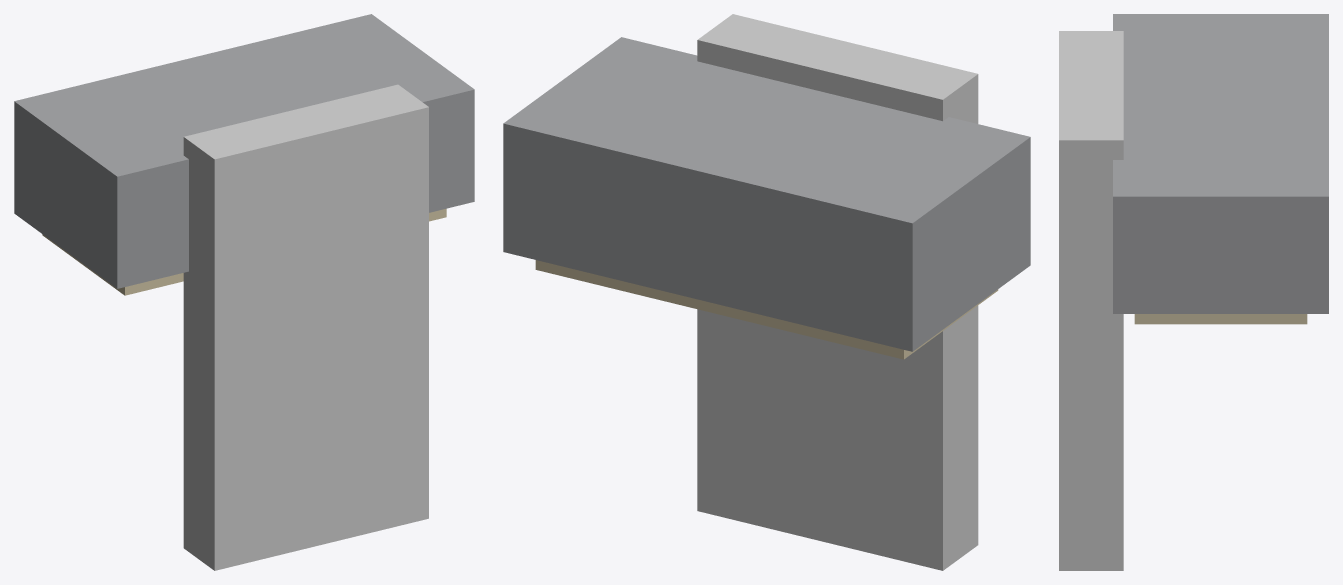
Rendered from ilu_lampada_parede_coz.glb.
3 renders of one model, left to right at view 1: azimuth 30°, elevation 25°; view 2: azimuth 150°, elevation 25°; view 3: azimuth 270°, elevation 25°, orthographic. The views are drawn at different scales.
Parts seen in each view (by area): view 1: ILU_Lampada_Parede_Coz_v01; view 2: ILU_Lampada_Parede_Coz_v01; view 3: ILU_Lampada_Parede_Coz_v01.
Part boxes in pixels (x1,y1,x2,y2): ILU_Lampada_Parede_Coz_v01: (14, 14, 474, 570); ILU_Lampada_Parede_Coz_v01: (503, 14, 1030, 570); ILU_Lampada_Parede_Coz_v01: (1059, 14, 1328, 570).
Bounding box in the file's own units: 0.2 × 0.22 × 0.125.
